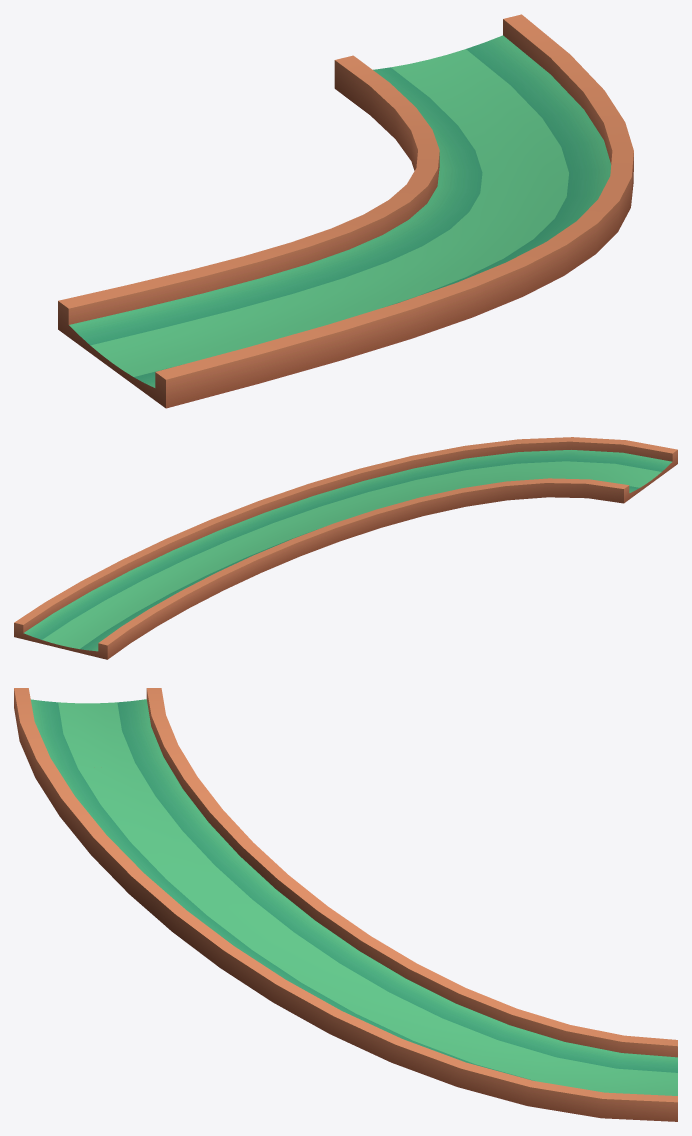
Rendered from spline-concave-corner-large-ramp.glb.
The picture shows the model from 3 angles, top to bottom: view 1: azimuth 30°, elevation 25°; view 2: azimuth 150°, elevation 25°; view 3: azimuth 270°, elevation 25°; orthographic projection. The views are drawn at different scales.
Parts seen in each view (by area): view 1: spline-concave-corner-large-ramp; view 2: spline-concave-corner-large-ramp; view 3: spline-concave-corner-large-ramp.
Boxes of the visible parts, x1=… form: spline-concave-corner-large-ramp: x1=58, y1=14, x2=633, y2=408; spline-concave-corner-large-ramp: x1=14, y1=437, x2=677, y2=659; spline-concave-corner-large-ramp: x1=14, y1=688, x2=677, y2=1121.
Size of the model in its own units: 4.5 by 1.15 by 4.5.
1 material, 1 textured.
